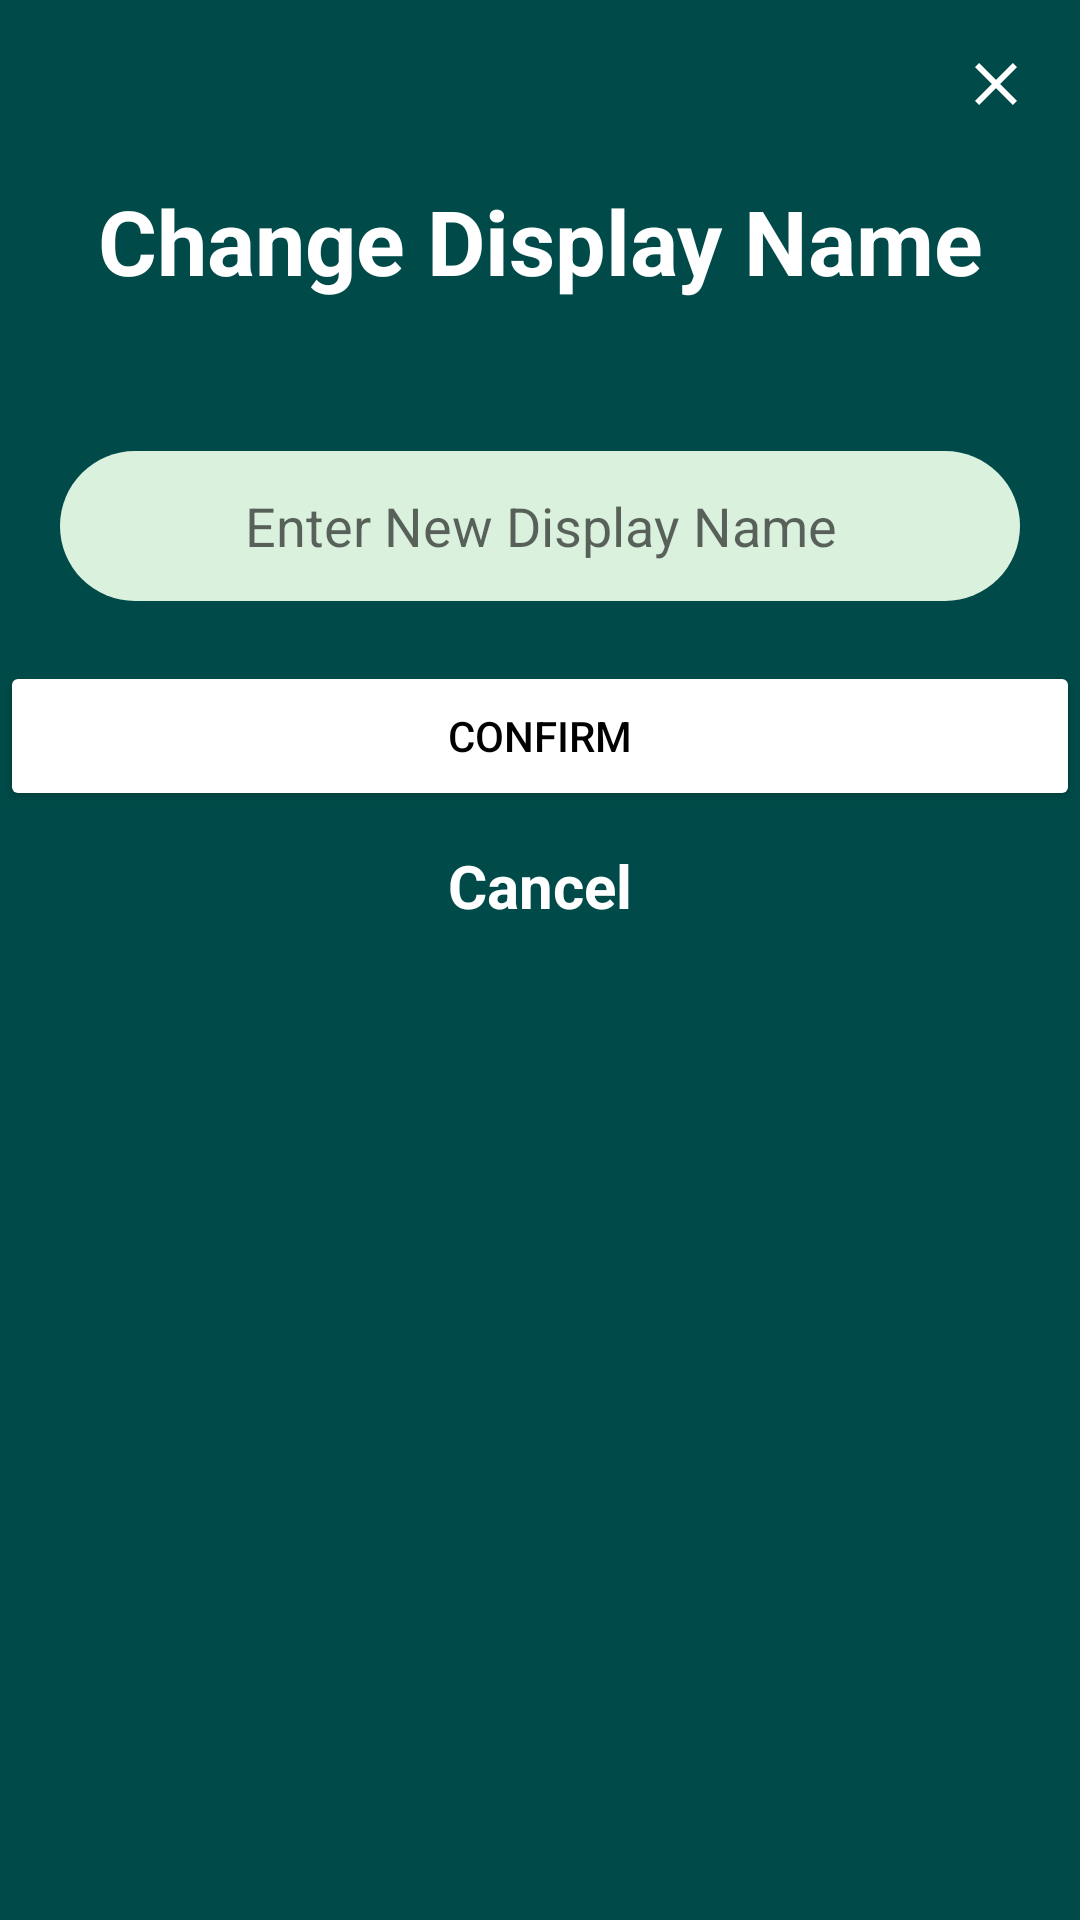

Screen size 1080×1920. Icon name, then its box in pixels as Rect(x1, y1, x2, y2):
cross: Rect(975, 63, 1017, 105)
